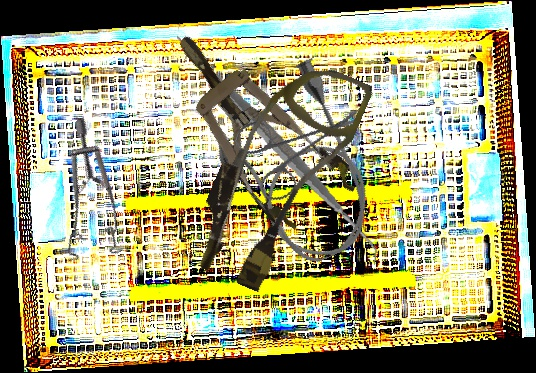Cannula: (181, 44, 375, 303), (191, 45, 392, 283)
Iris Scissors: (220, 76, 364, 220)
Spatula Surgical: (152, 23, 402, 265)
Speculum: (146, 7, 364, 244), (6, 116, 158, 279)
